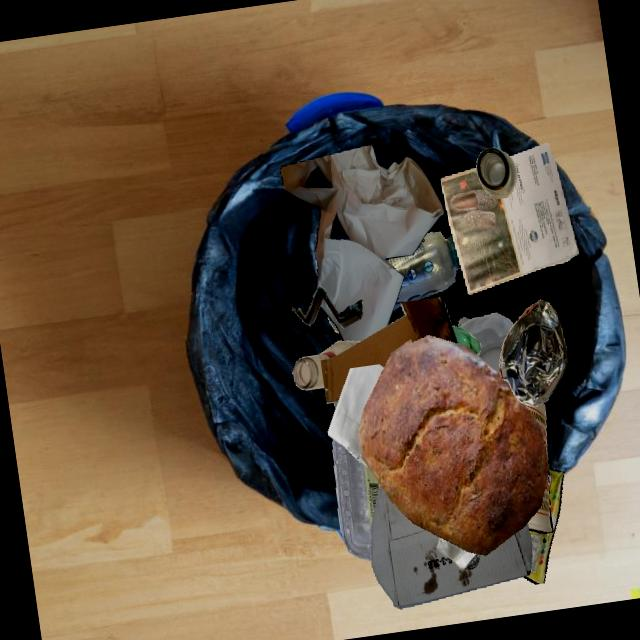biowaste: (358, 335, 549, 555)
cardboard: (371, 486, 532, 609), (321, 297, 458, 408), (292, 286, 363, 328)
glass: (293, 341, 361, 390), (476, 147, 517, 199)
metal: (499, 300, 568, 407)
paper: (280, 145, 444, 341), (440, 143, 579, 295), (328, 364, 384, 468)
plastic: (333, 438, 381, 561), (387, 232, 461, 311), (459, 312, 514, 376), (452, 326, 481, 355), (458, 317, 470, 327)
trash: (523, 468, 564, 584), (527, 470, 553, 533), (524, 403, 548, 465)
